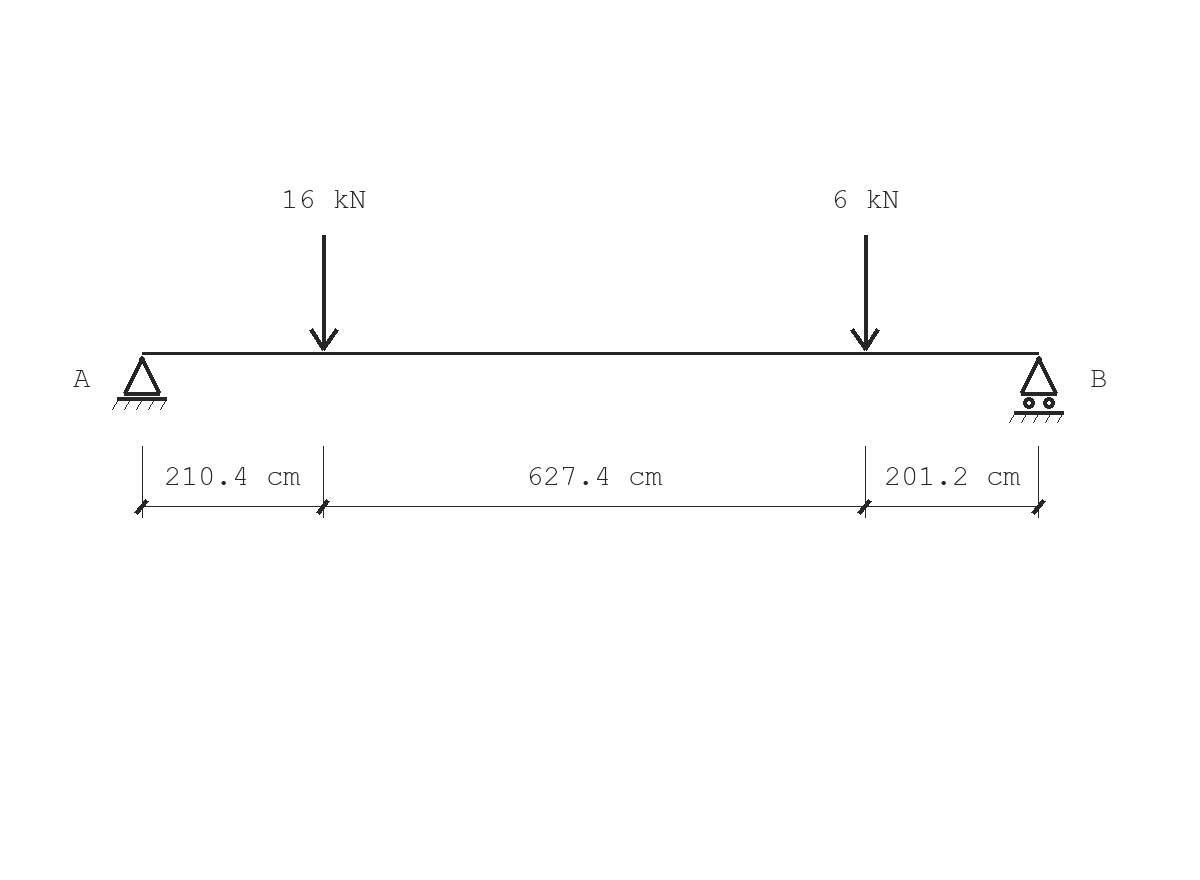pin_support: (112, 356, 167, 410)
point_load: (309, 235, 339, 351), (850, 235, 880, 351)
roller_support: (1009, 356, 1064, 423)
